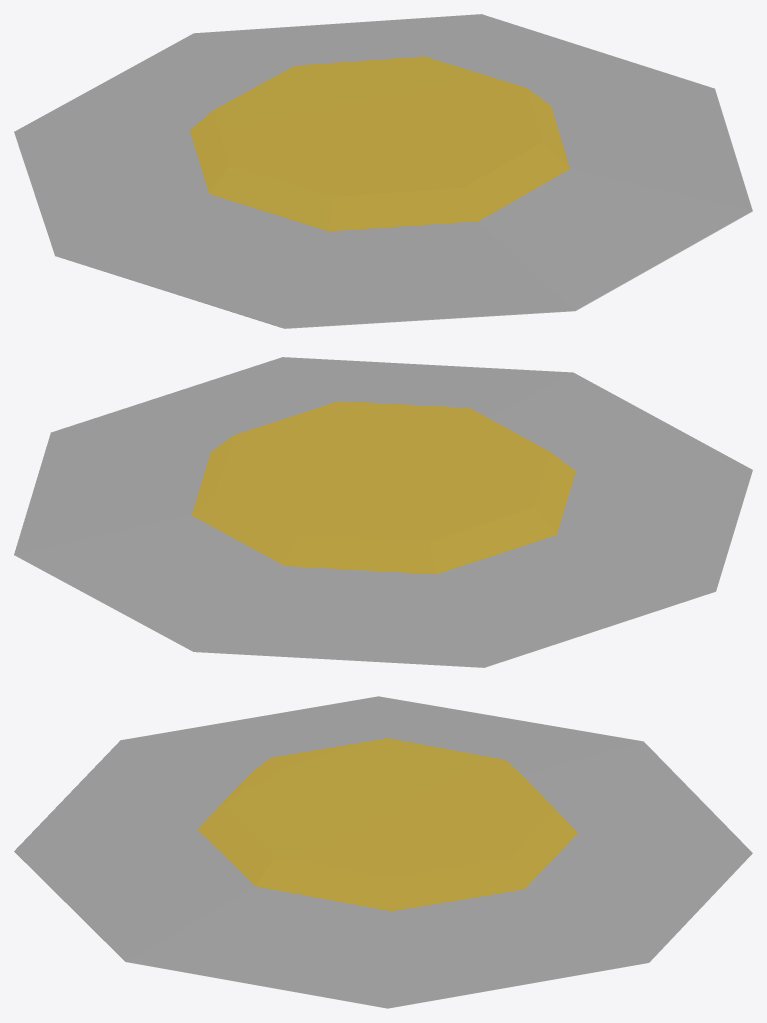
The model's file is EggFry Installer (1).fbx.
3 renders of one model, top to bottom at view 1: azimuth 30°, elevation 25°; view 2: azimuth 150°, elevation 25°; view 3: azimuth 270°, elevation 25°, orthographic. The views are drawn at different scales.
Visible parts, largest first — view 1: EggFry; view 2: EggFry; view 3: EggFry.
Boxes of the visible parts, x1,y1,x2,y2 form: EggFry: [14, 14, 752, 328]; EggFry: [14, 357, 752, 667]; EggFry: [14, 696, 752, 1008].
Bounding box in the file's own units: 2.84 × 0.1929 × 2.83.
